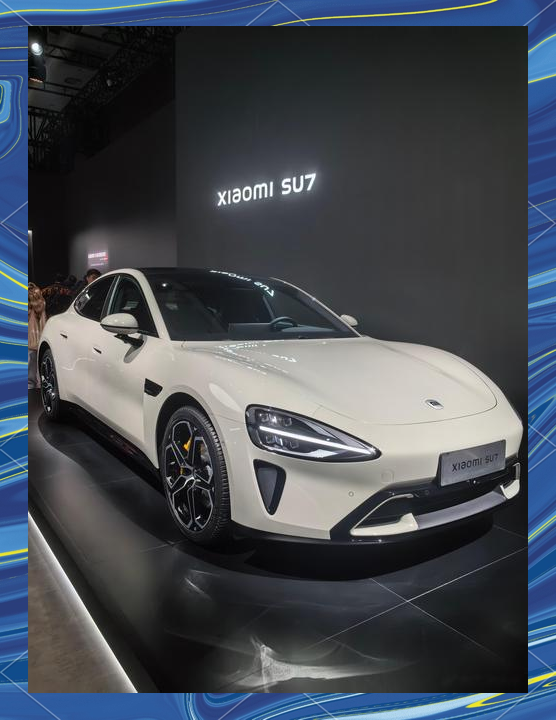su7: (33, 262, 526, 555)
